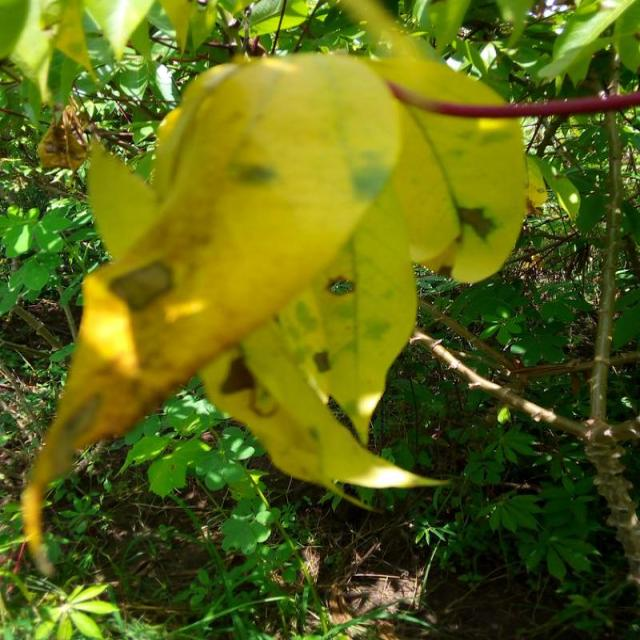cassava leaf: (19, 48, 444, 573)
